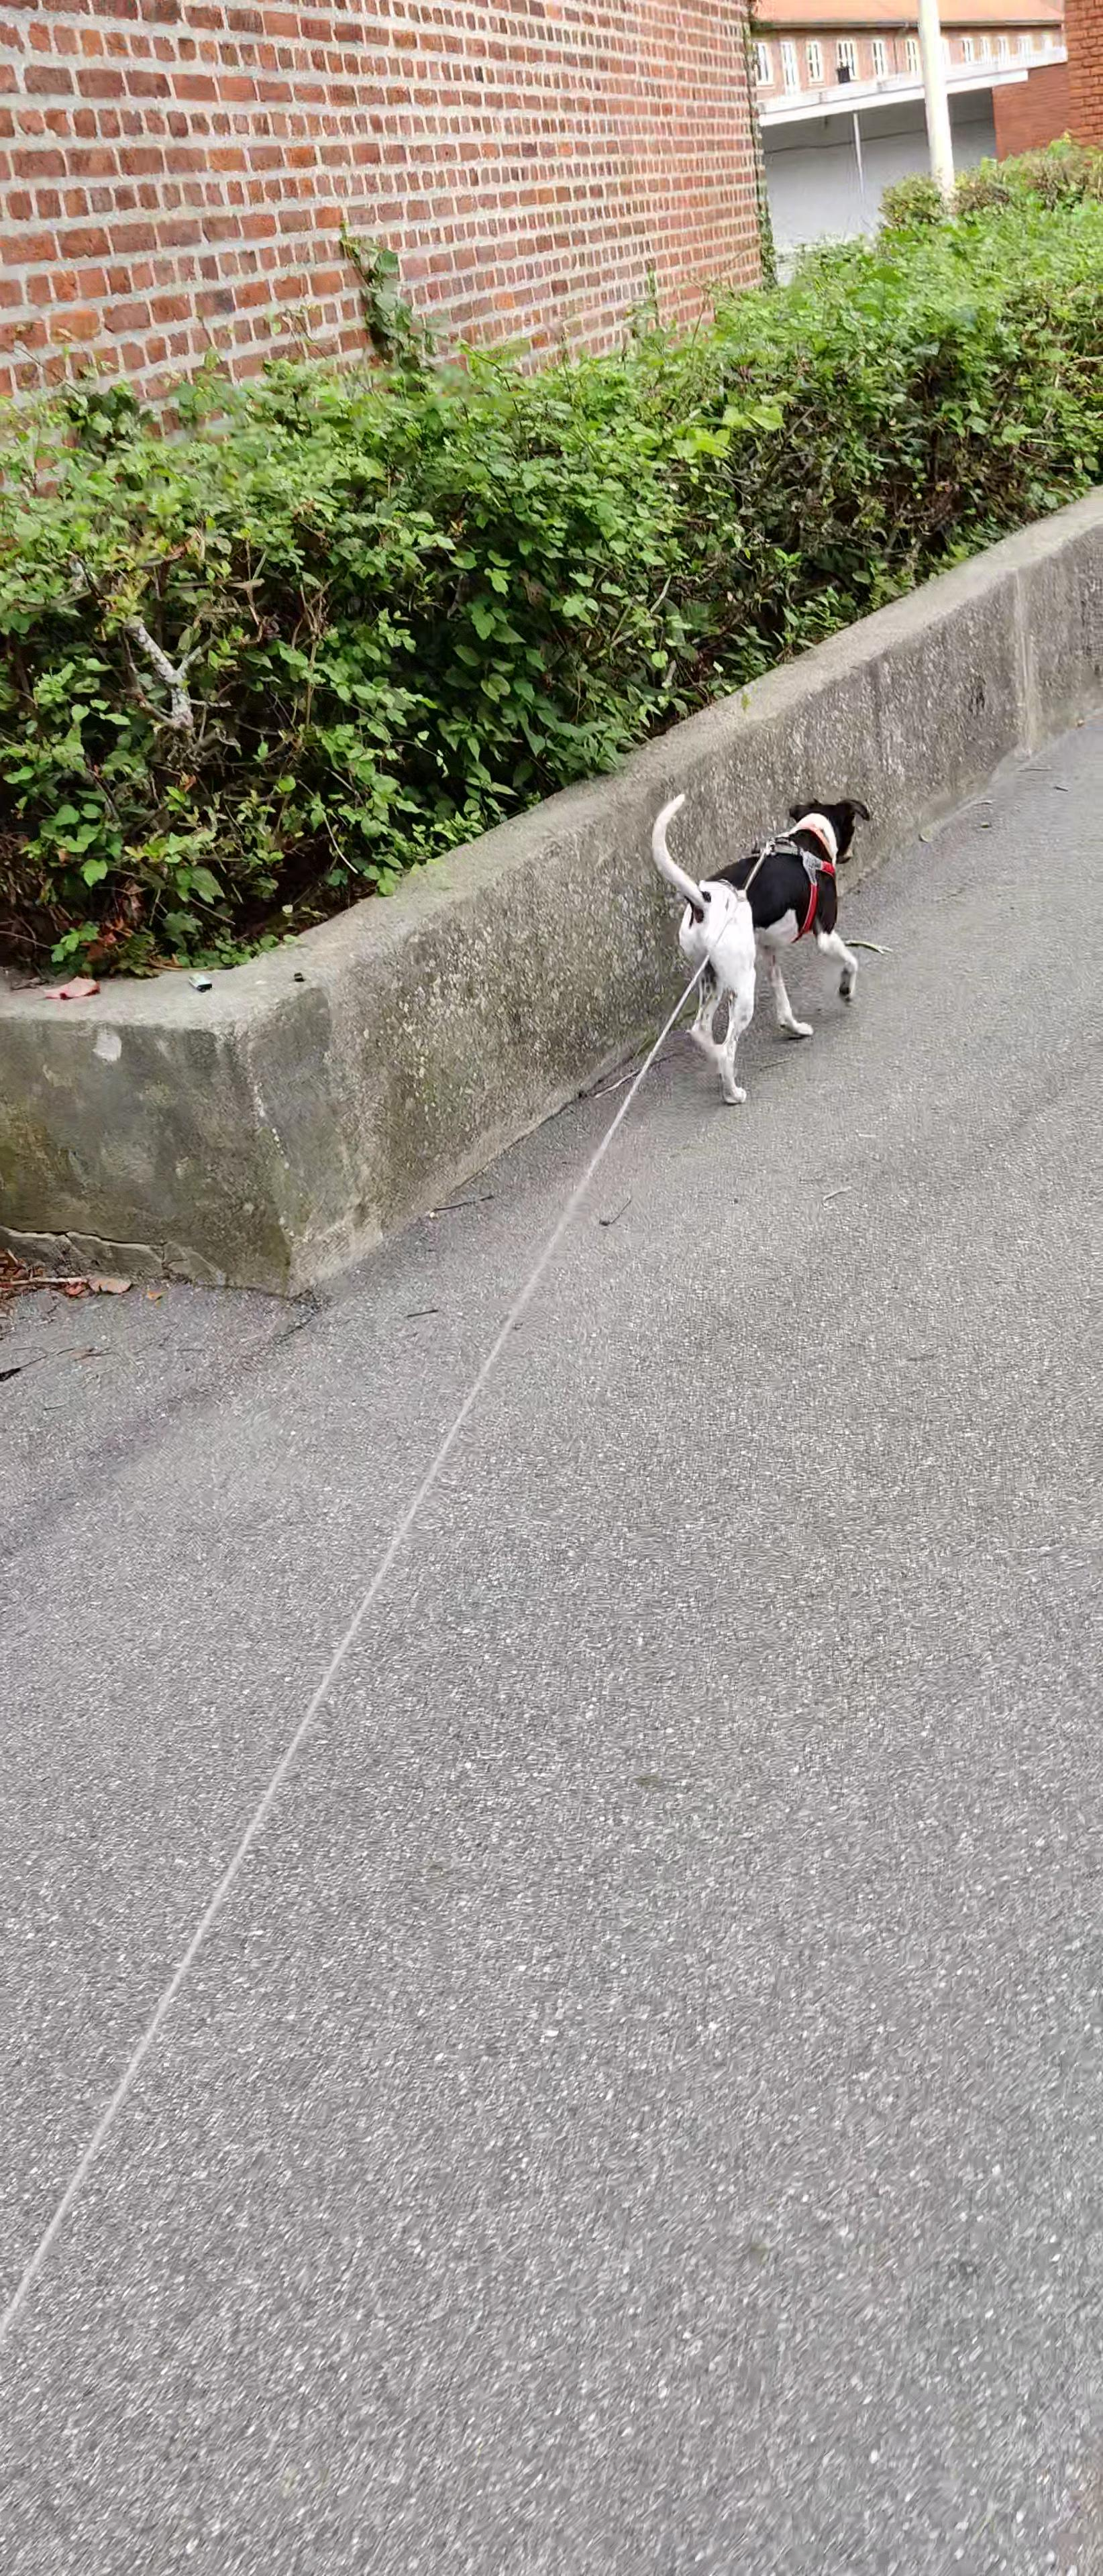Dog: (633, 784, 902, 1114)
